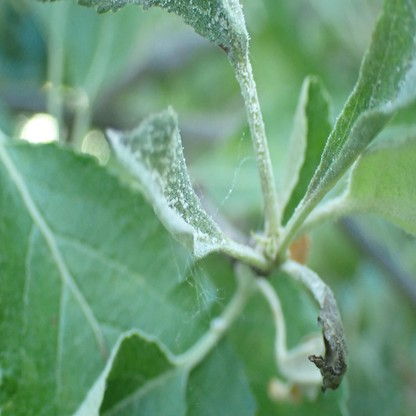powder: (284, 2, 416, 214), (105, 104, 224, 261), (75, 0, 249, 58)
